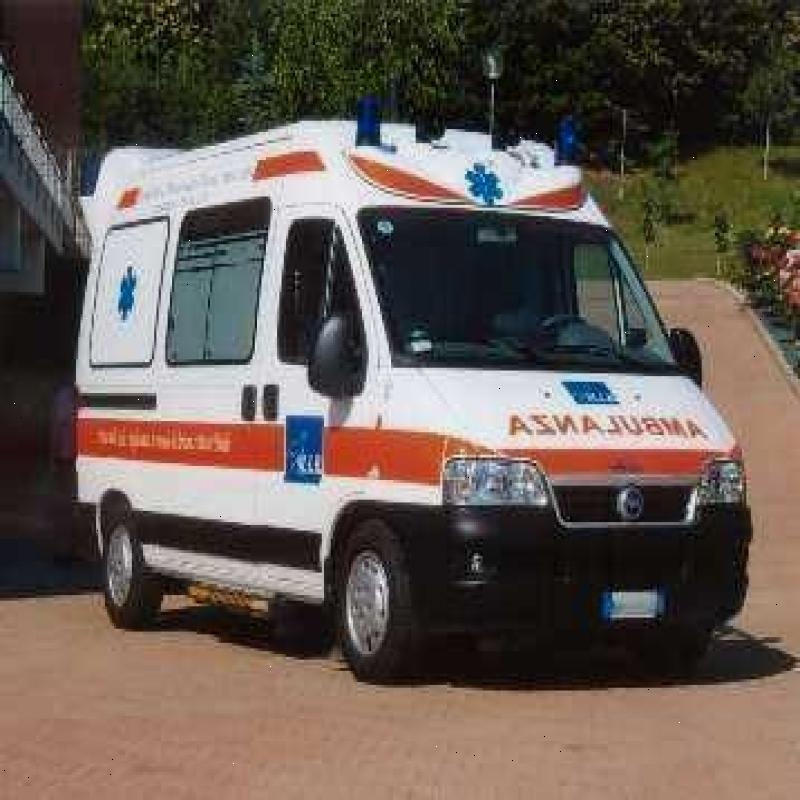AmbulanceSiren: (350, 73, 392, 141), (554, 109, 591, 170)
